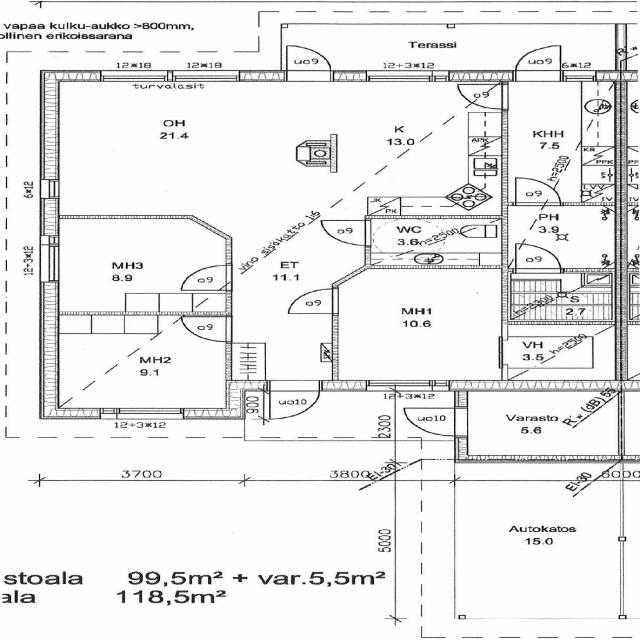door: (270, 380, 319, 419), (404, 408, 468, 436), (515, 44, 561, 82), (286, 45, 330, 82), (287, 288, 338, 314), (516, 243, 560, 273), (516, 177, 560, 206), (457, 84, 508, 109), (319, 220, 370, 245), (180, 266, 232, 290), (182, 317, 231, 341)
